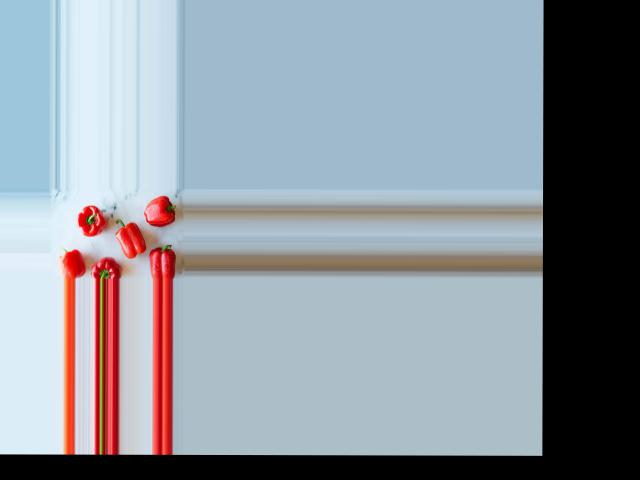bell_pepper: (91, 255, 122, 278)
